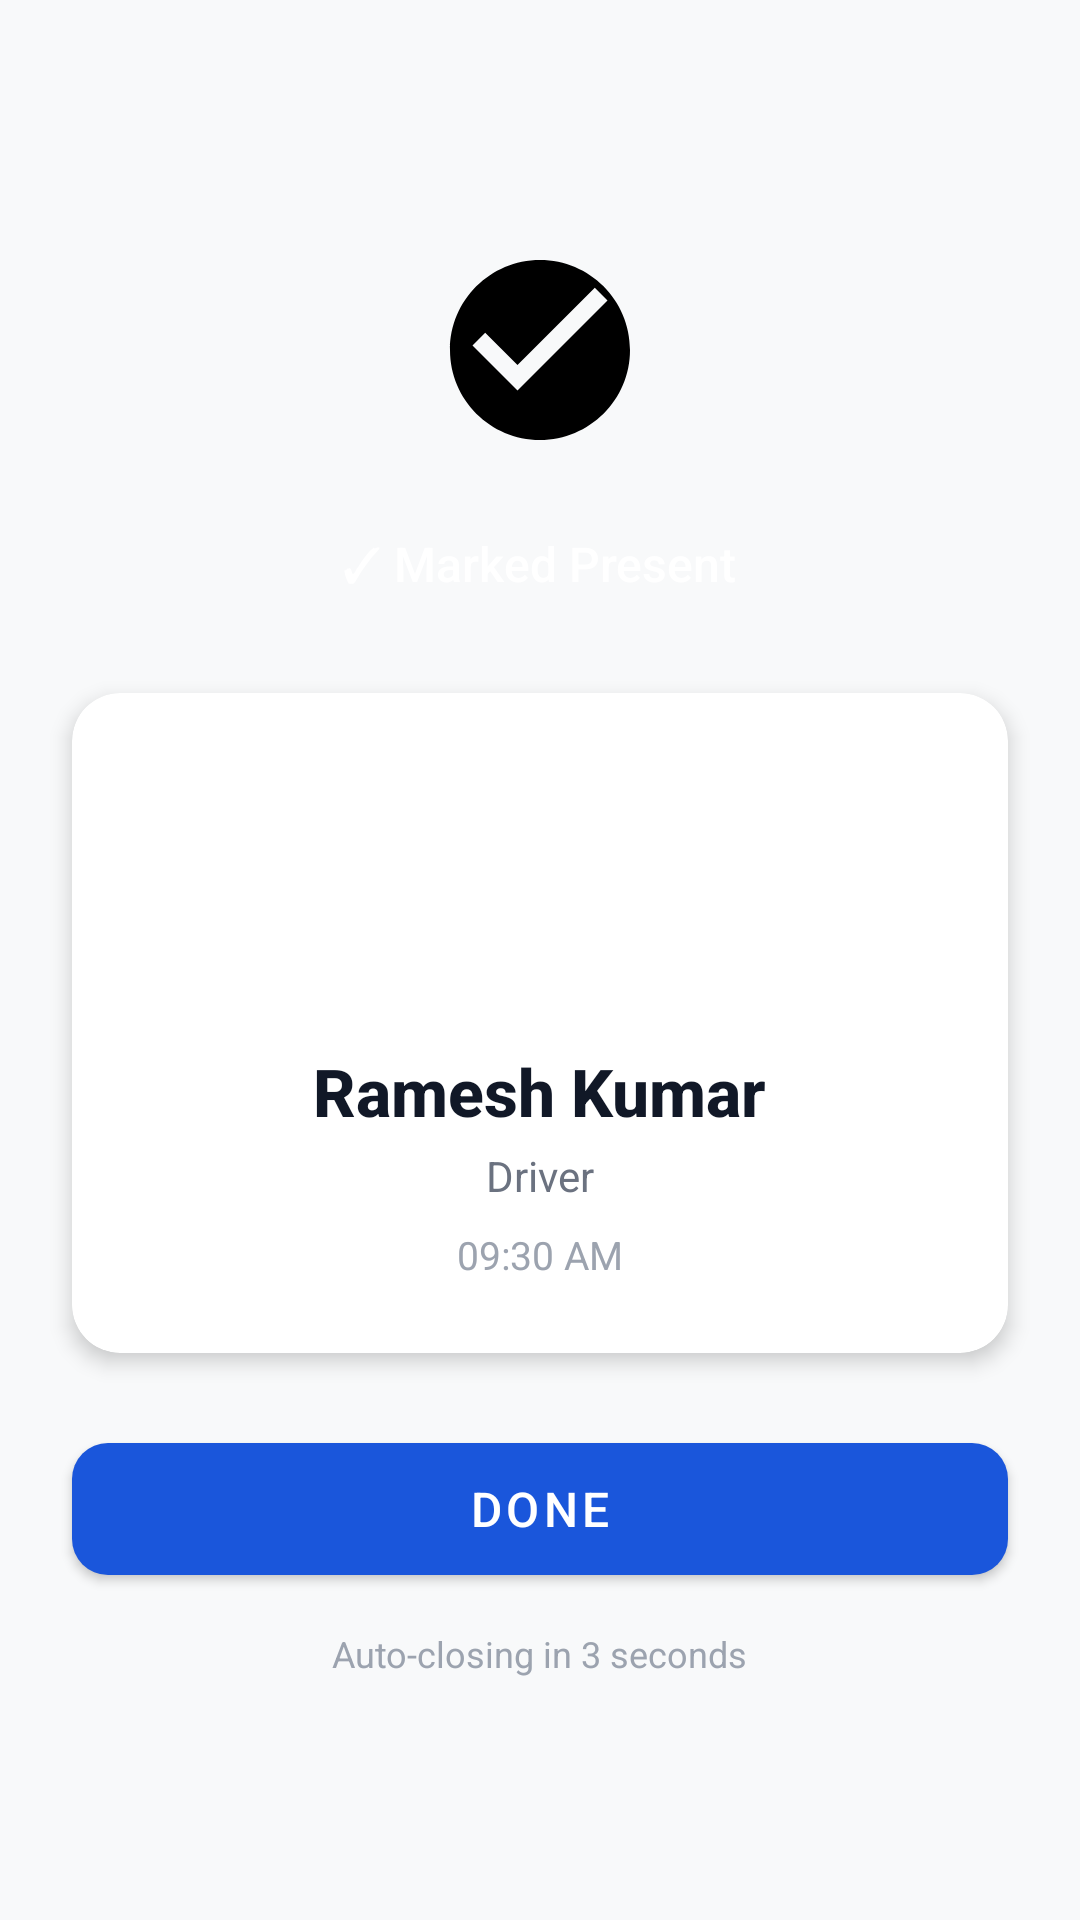

Named icons in this screenshot (1080 x 1920) and their bounding boxes, (x1, y1, x2, y2):
Success: (449, 260, 630, 440)
